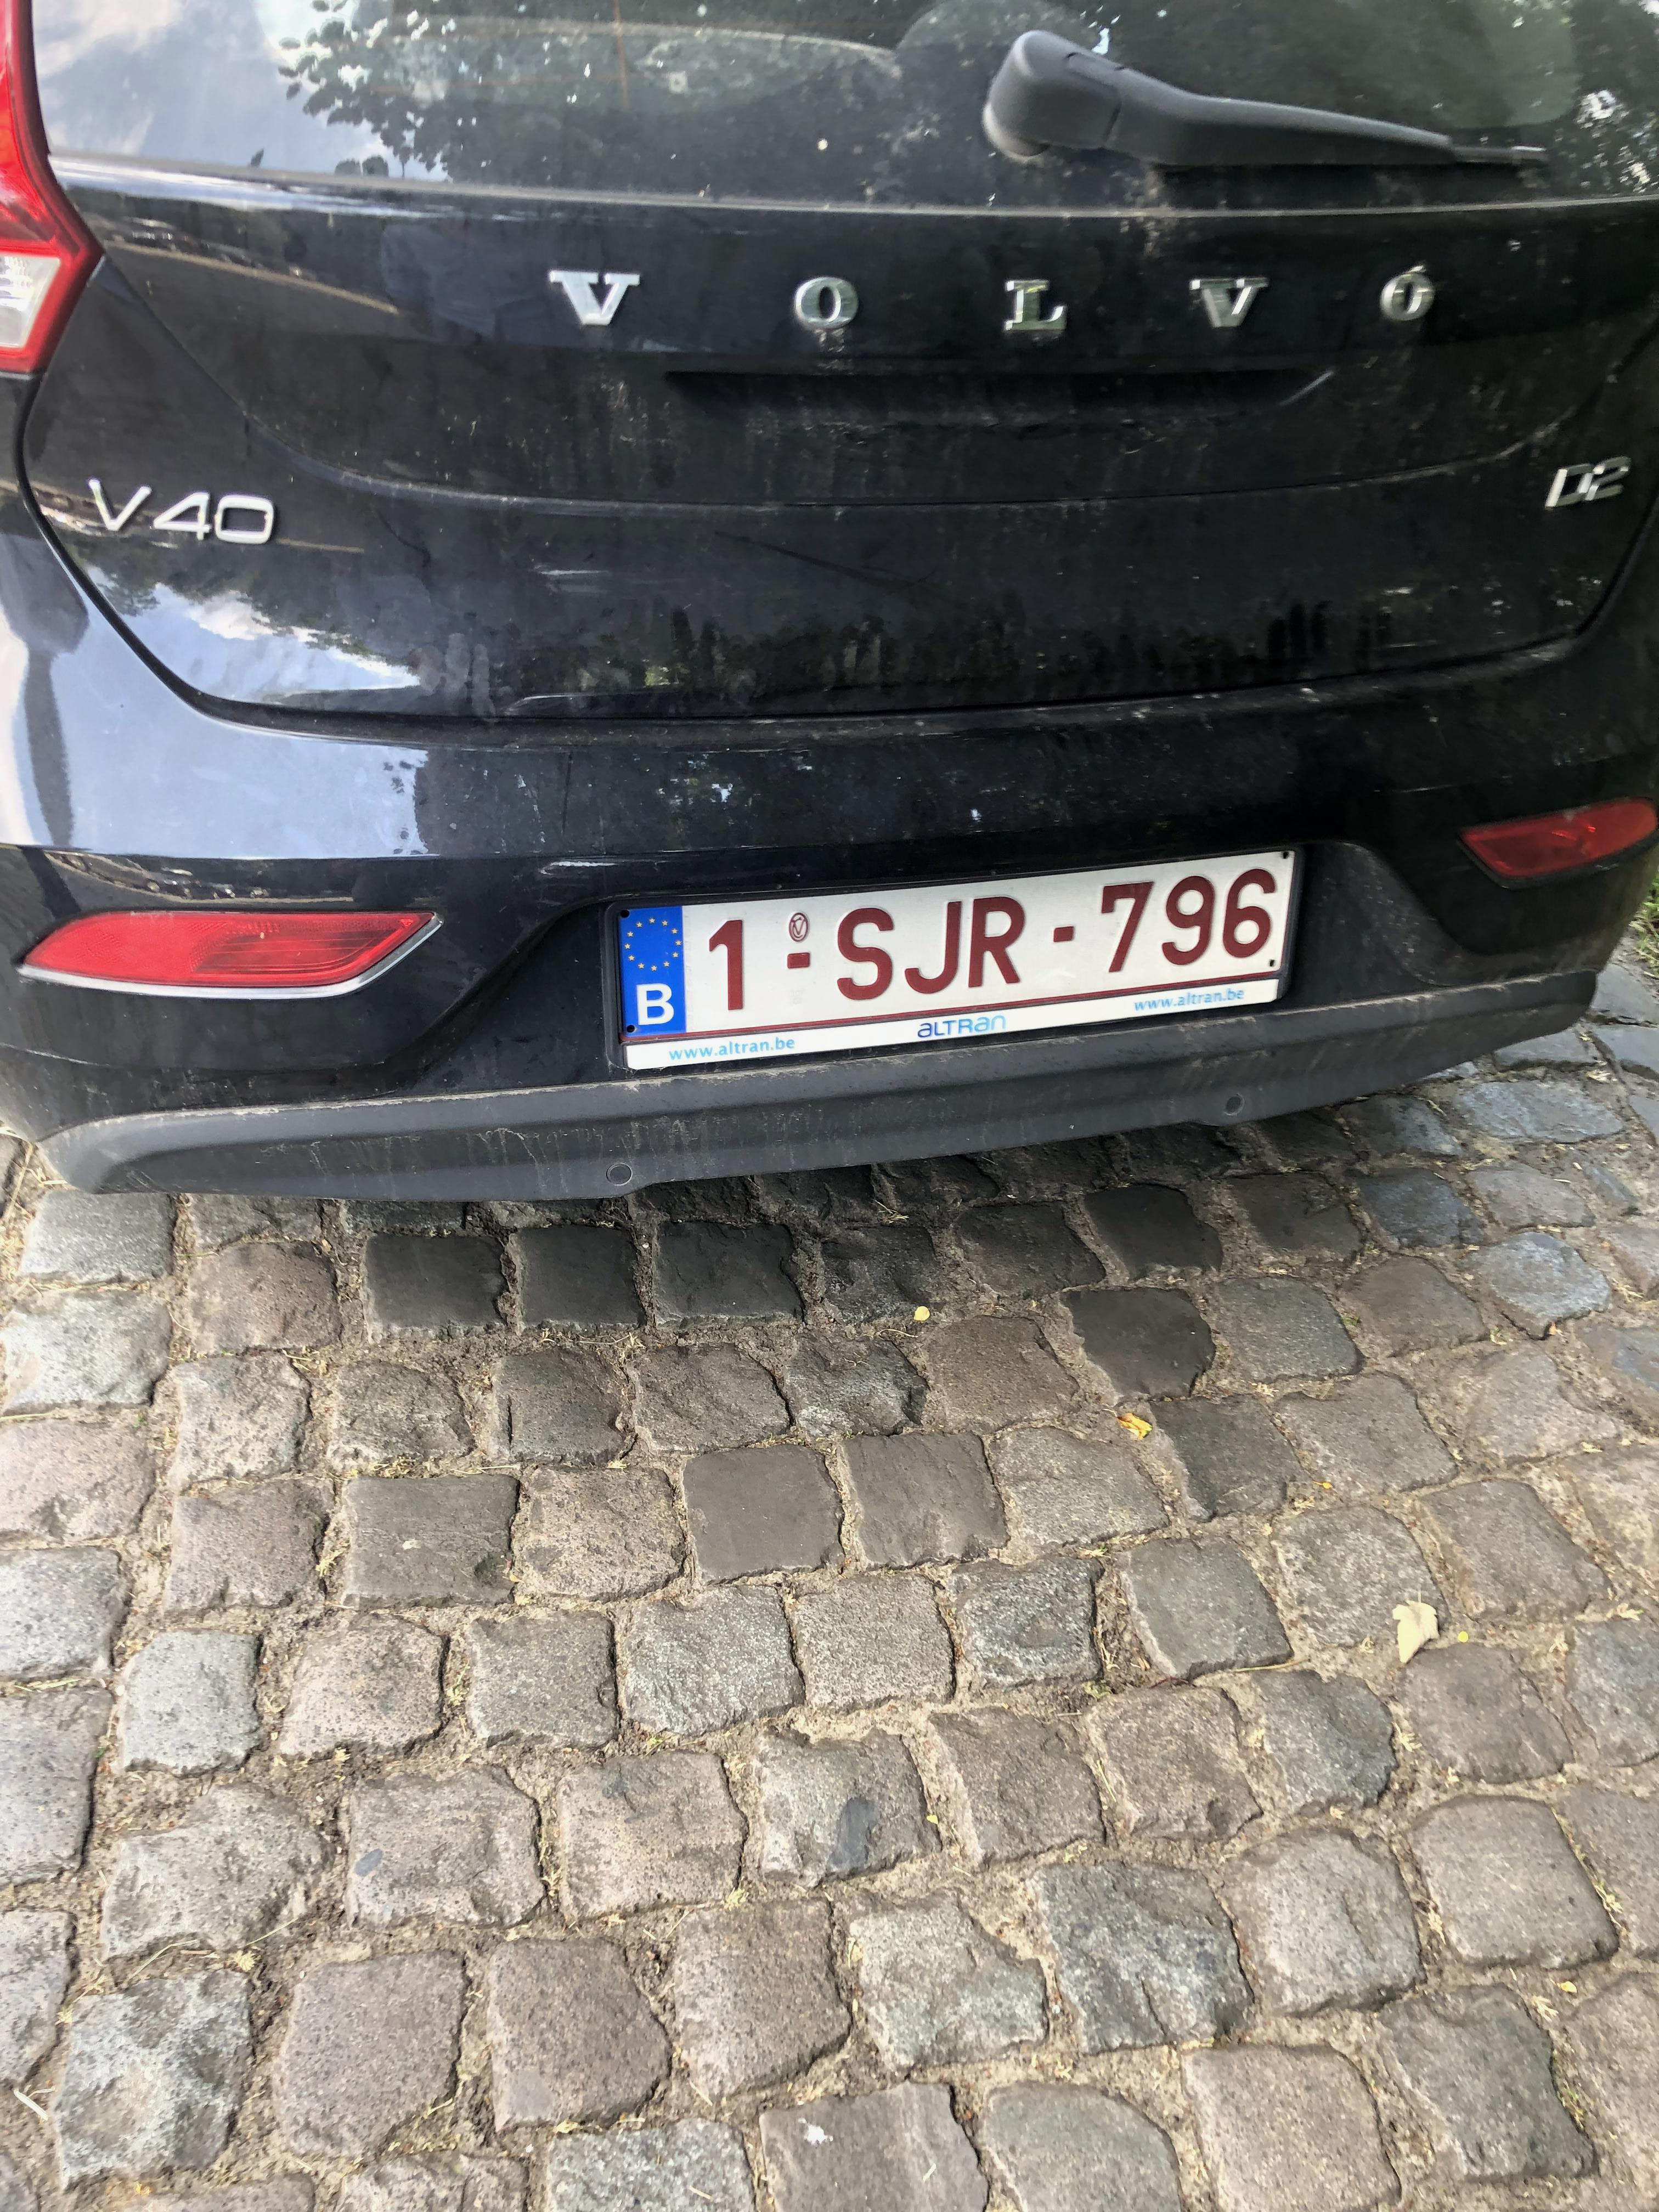plate: (583, 833, 1314, 1088)
